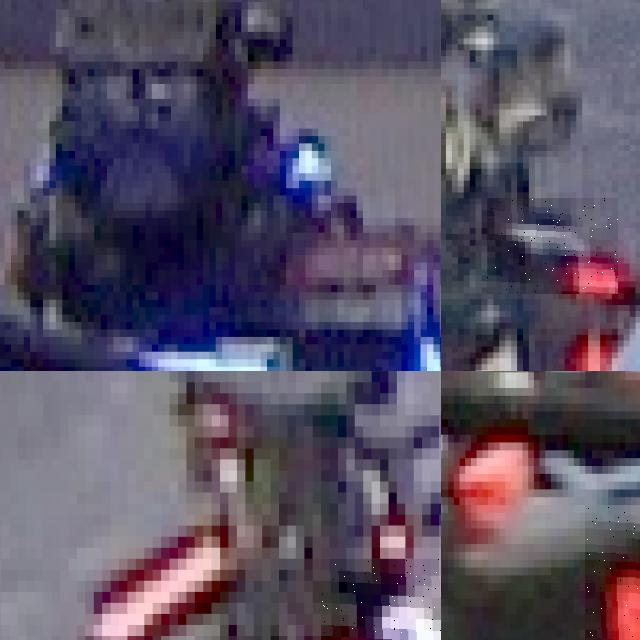R1: (487, 198, 618, 294), (441, 334, 612, 371)
R3: (321, 558, 441, 640), (585, 505, 640, 640)
